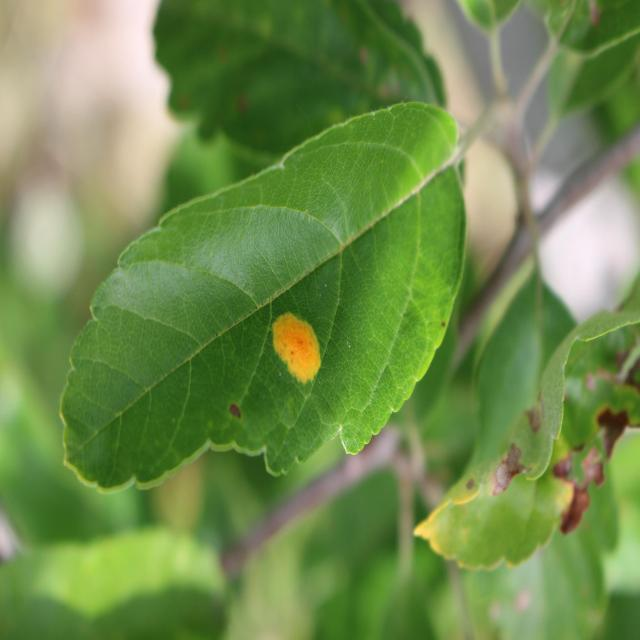Rust: (269, 303, 326, 394)
